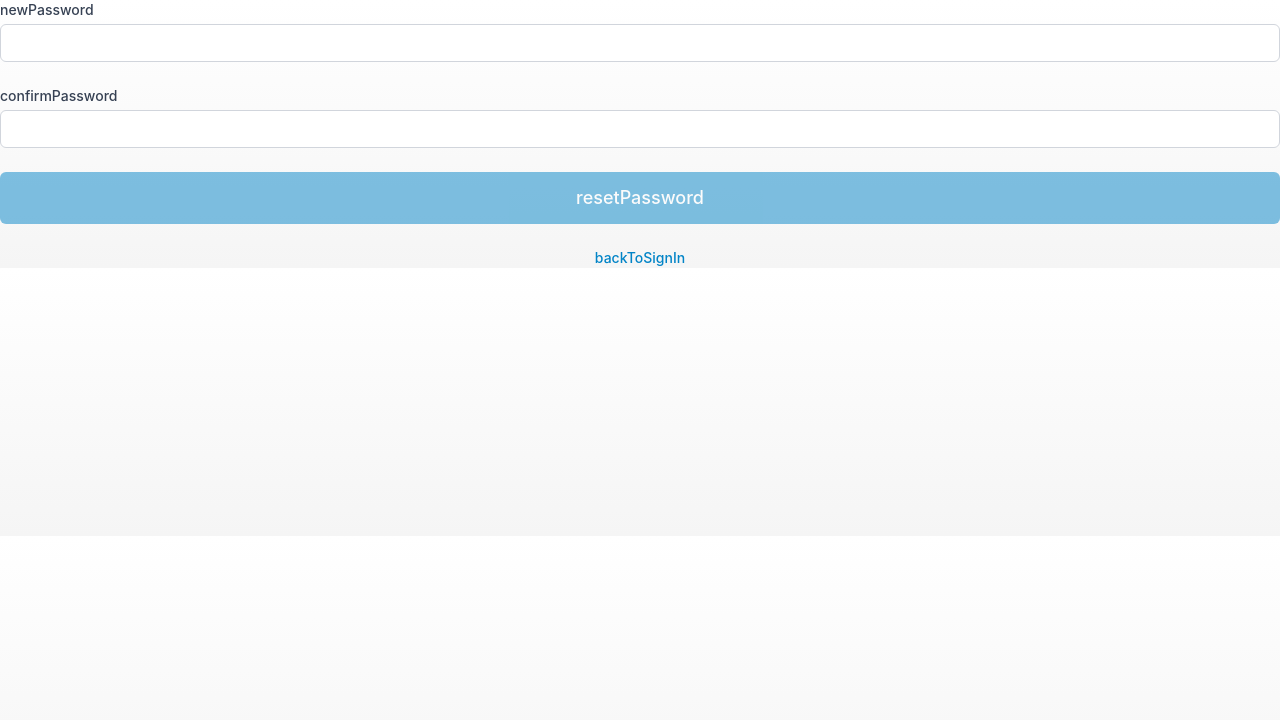
Test: ResetPasswordForm › shows success state after successful reset
Type "Password1" into the password field labelled "newPassword" at (640, 43), box top-left (0, 24), bottom-right (1279, 62)
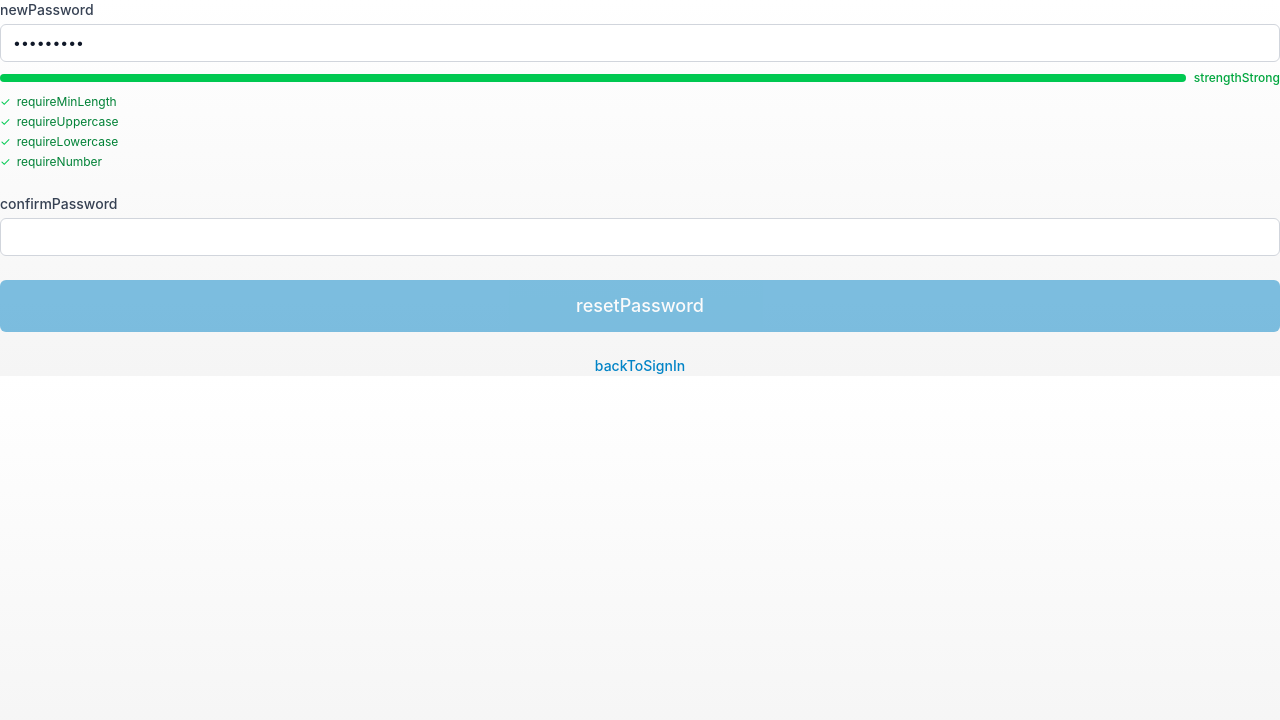
Type "Password1" into the password field labelled "confirmPassword" at (640, 237), box top-left (0, 218), bottom-right (1279, 256)
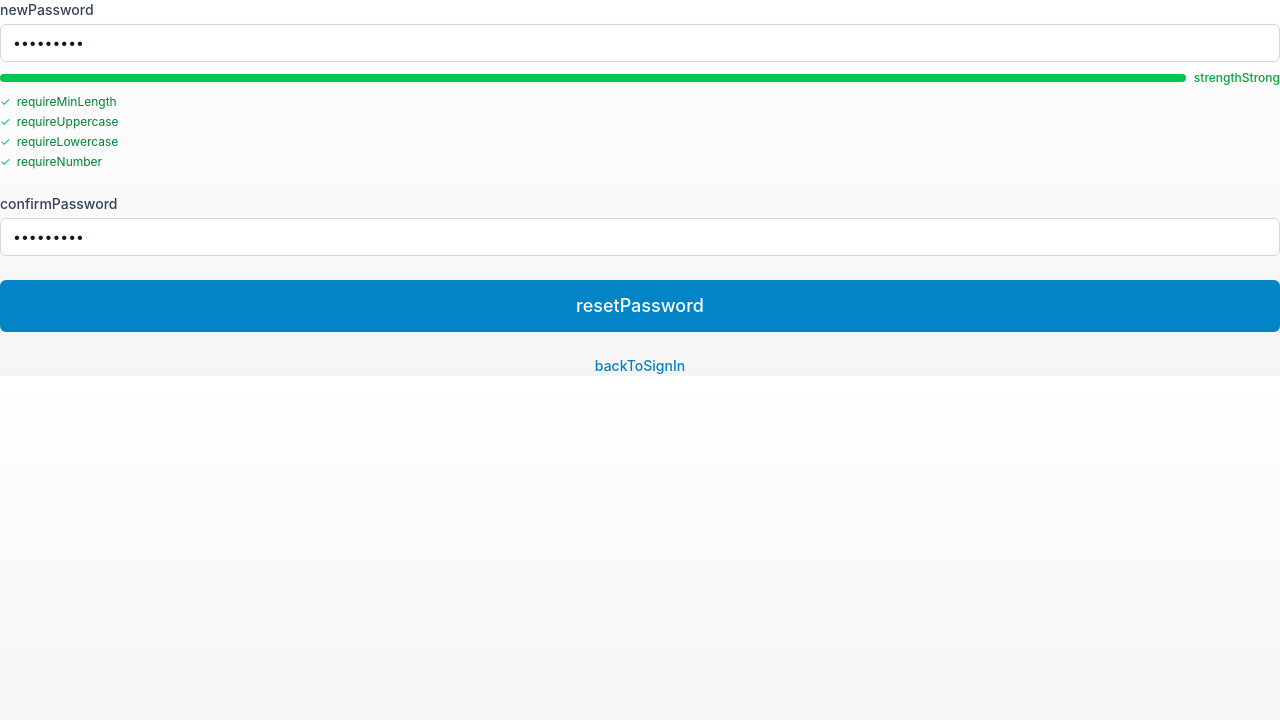
Click the button "resetPassword" at (640, 306), box top-left (0, 280), bottom-right (1279, 332)
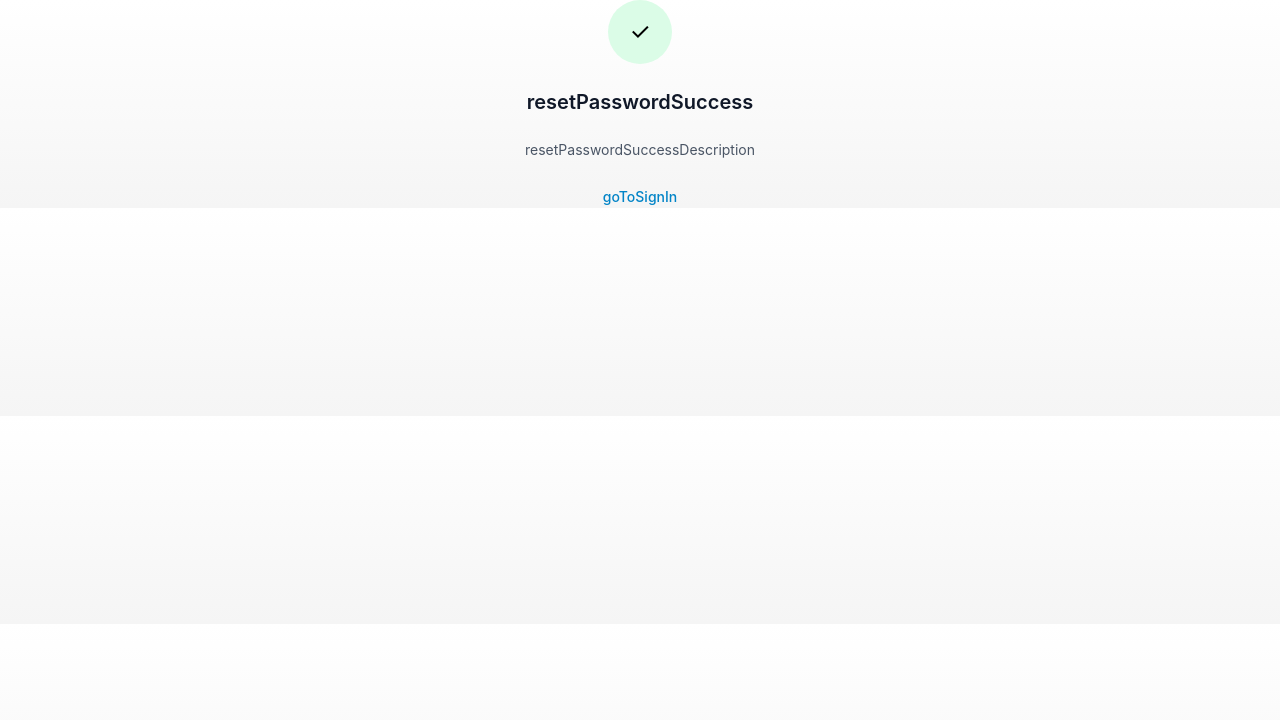
Now the element with test id "reset-success-state" is shown, box top-left (525, 0), bottom-right (755, 205)
Now the heading "resetPasswordSuccess" is shown, box top-left (527, 90), bottom-right (753, 114)
Now the link "goToSignIn" is shown, box top-left (603, 187), bottom-right (677, 207)
